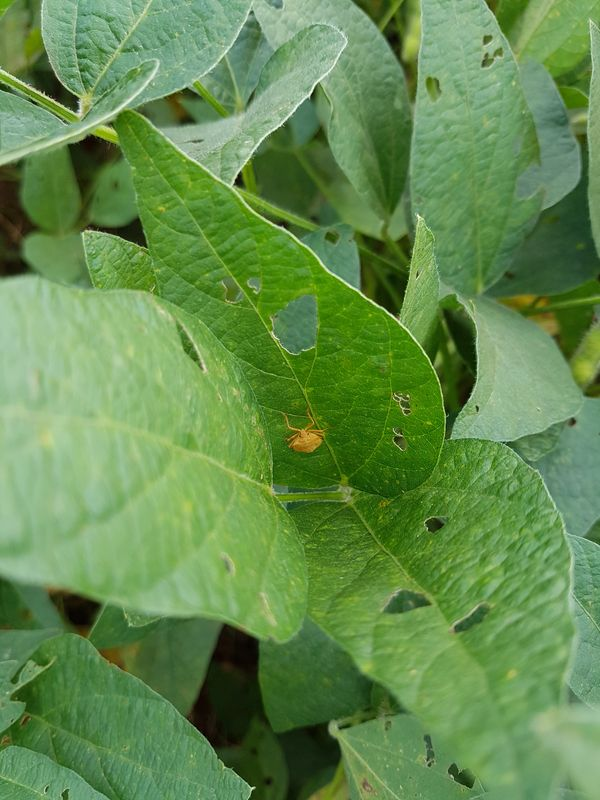Euschistus_heros_ninfa: (271, 405, 334, 460)
